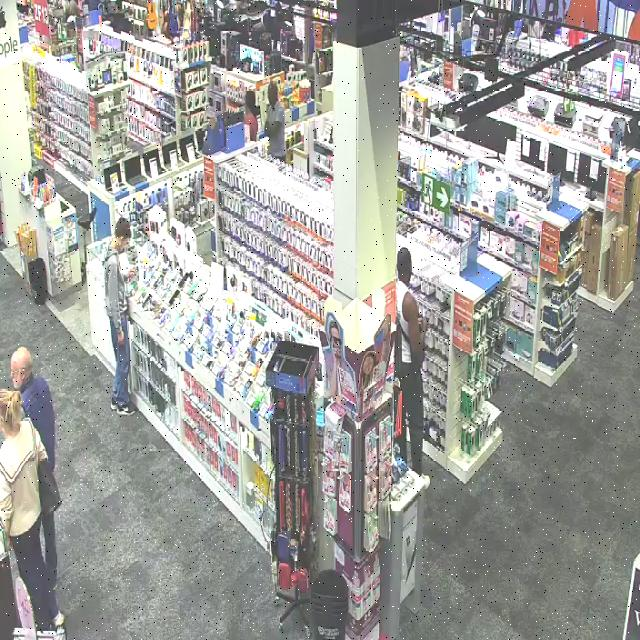bags: (38, 461, 61, 514)
hands: (418, 315, 428, 332), (127, 264, 137, 278), (117, 332, 125, 346)
person: (0, 389, 64, 629), (395, 248, 425, 473), (104, 218, 135, 414), (12, 348, 55, 470), (43, 513, 56, 588)
